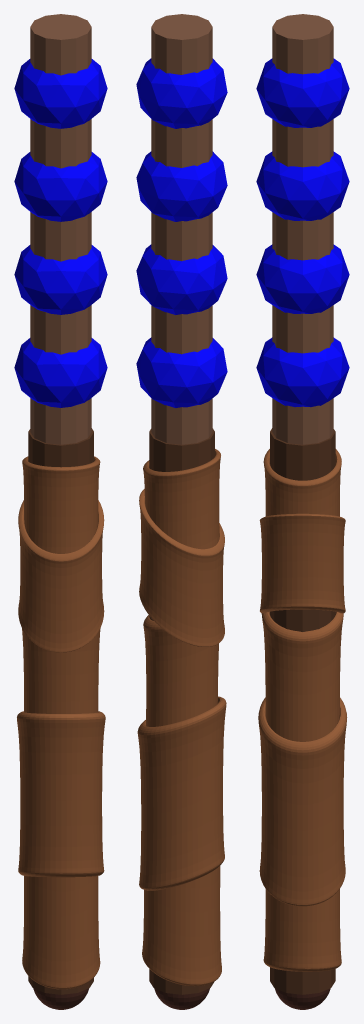
Rendered from Wand 333.glb.
3 views of the same model, side by side, from view 1: azimuth 90°, elevation 25°; view 2: azimuth 150°, elevation 25°; view 3: azimuth 270°, elevation 25° (orthographic).
Parts seen in each view (by area): view 1: GeneratedWand; view 2: GeneratedWand; view 3: GeneratedWand.
Boxes of the visible parts, x1=… form: GeneratedWand: x1=14, y1=14, x2=107, y2=1009; GeneratedWand: x1=136, y1=14, x2=227, y2=1009; GeneratedWand: x1=256, y1=14, x2=349, y2=1009.
Size of the model in its own units: 0.0408 by 0.497 by 0.0428.
